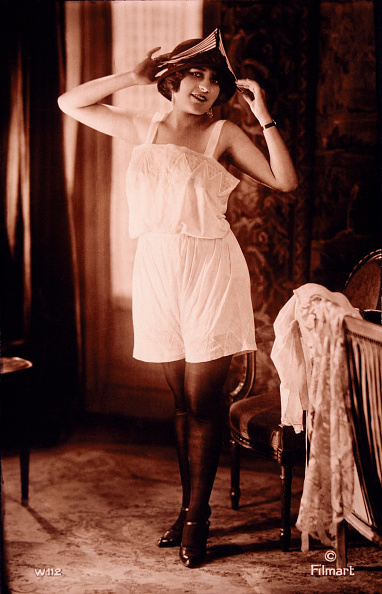em pe: (81, 37, 287, 424)
